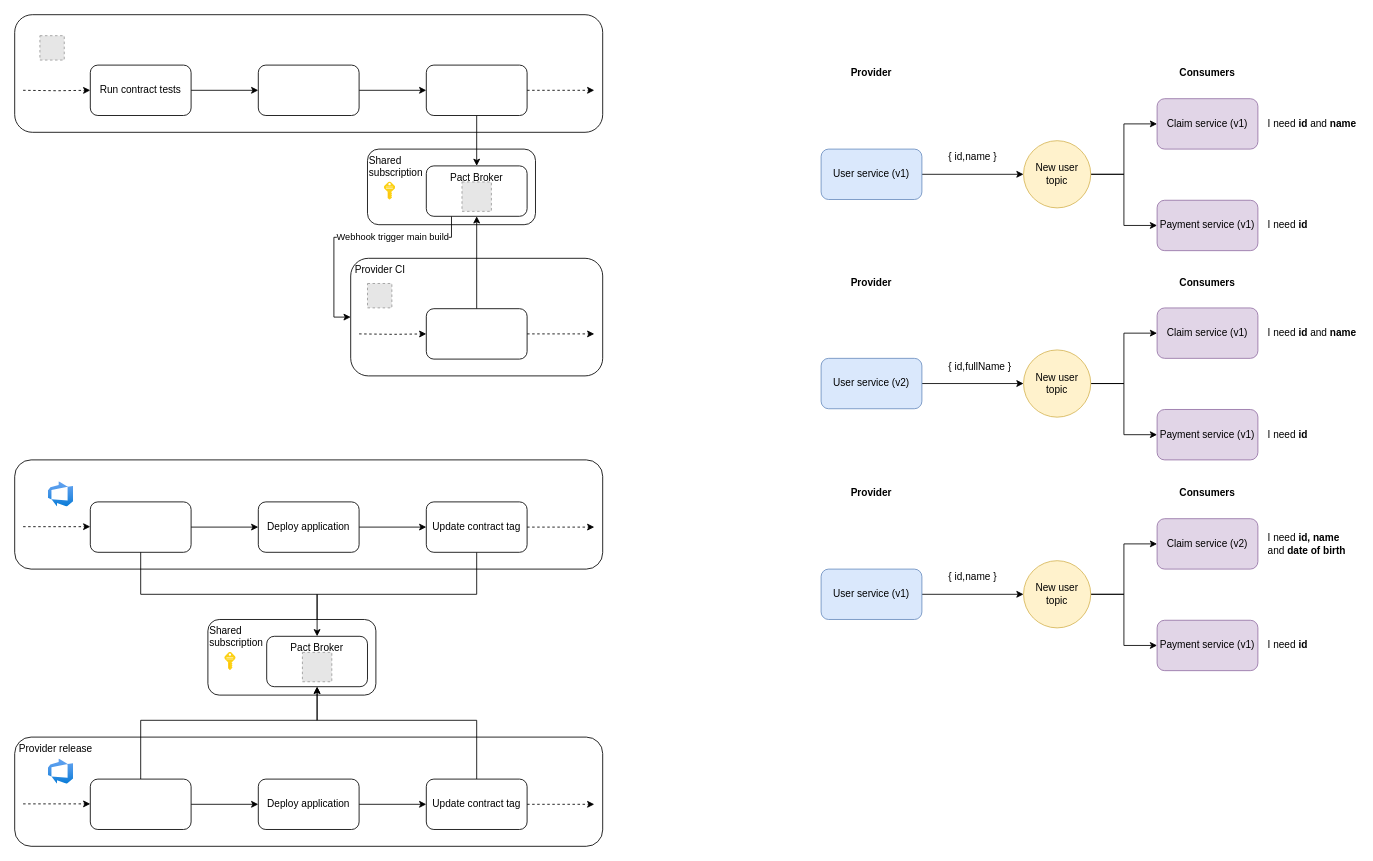
The diagram is 1373 pixels wide and 861 high, and some of its shapes have lost their labels. Grey dashed boxes stand in for pictures. Each missing label, with the box of its shape:
Check contract can be fulfilled in environment: (89, 501, 191, 552)
Check contracts are compatible with existing services: (89, 778, 191, 830)
Consumer CI: (14, 14, 603, 132)
Consumer release: (14, 459, 603, 569)
Generate contract: (257, 64, 359, 116)
Publish contract (Main build only) Tag: main: (425, 64, 527, 116)
Run contract tests Tags: main, dev, test, preprod, prod: (425, 308, 527, 359)
